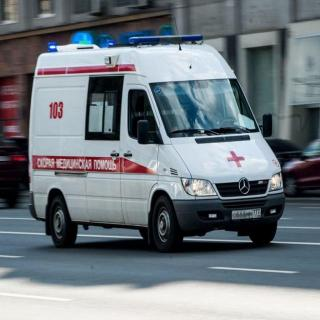Ambulance: (14, 18, 295, 277)
